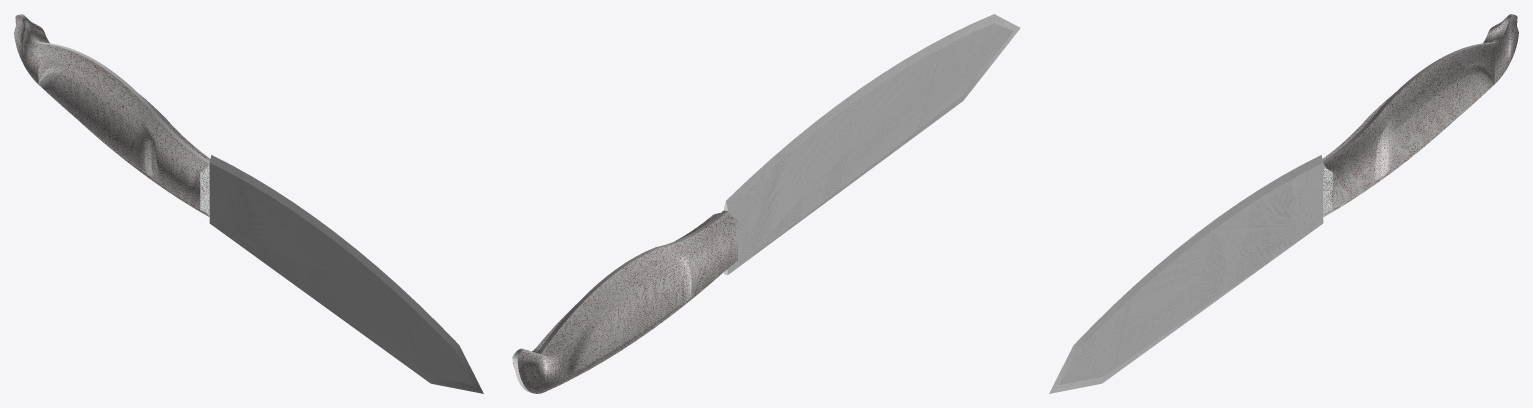
File: model_align.obj
3 views of the same model, side by side, from view 1: azimuth 30°, elevation 25°; view 2: azimuth 150°, elevation 25°; view 3: azimuth 330°, elevation 25° (orthographic). The views are drawn at different scales.
Visible parts, largest first — view 1: mesh1_mesh1-geometry; view 2: mesh1_mesh1-geometry; view 3: mesh1_mesh1-geometry.
Part boxes in pixels (left/top/right/bottom): mesh1_mesh1-geometry: left=14, top=14, right=483, bottom=393; mesh1_mesh1-geometry: left=512, top=14, right=1020, bottom=393; mesh1_mesh1-geometry: left=1049, top=14, right=1518, bottom=393.
Bounding box in the file's own units: 0.0097 × 0.0223 × 0.2315.
4 materials, 1 textured.
